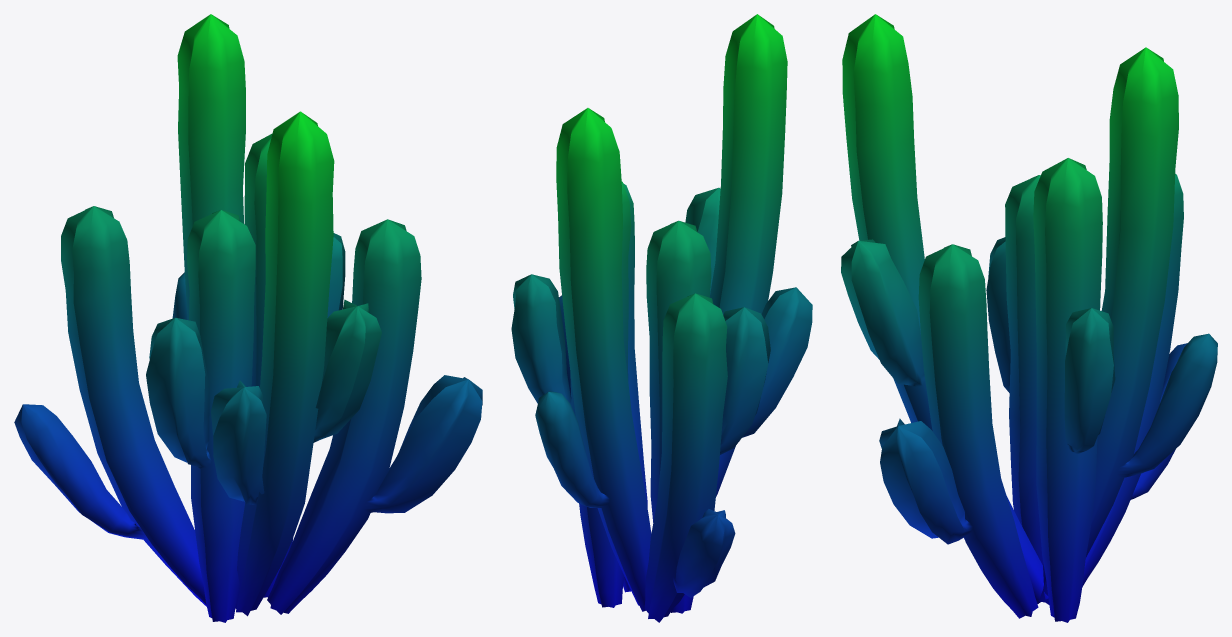
The model's file is Senita6.fbx.
3 views of the same model, side by side, from view 1: azimuth 30°, elevation 25°; view 2: azimuth 150°, elevation 25°; view 3: azimuth 270°, elevation 25° (orthographic). The views are drawn at different scales.
Parts seen in each view (by area): view 1: Senita6_LOD0; view 2: Senita6_LOD0; view 3: Senita6_LOD0.
Boxes of the visible parts, box(x1,y1,x2,y2) form: Senita6_LOD0: box(14, 14, 482, 622); Senita6_LOD0: box(511, 14, 812, 622); Senita6_LOD0: box(841, 14, 1217, 622).
Size of what is drawn, in the model's own units: 157 by 264 by 156.
